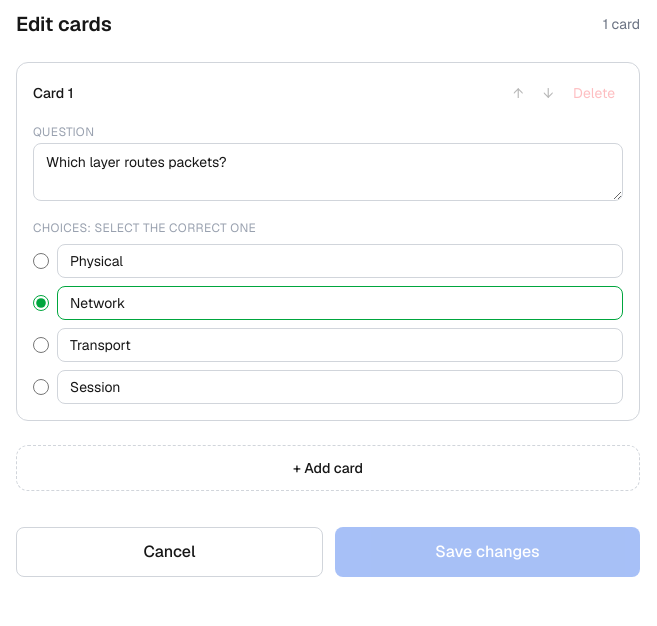
Test: CardEditor: multiple choice › rejects two identical choices
Replace the text in the field named "Card 1: choice 3" with "network." at point(340, 345), box 57,328 -> 623,362
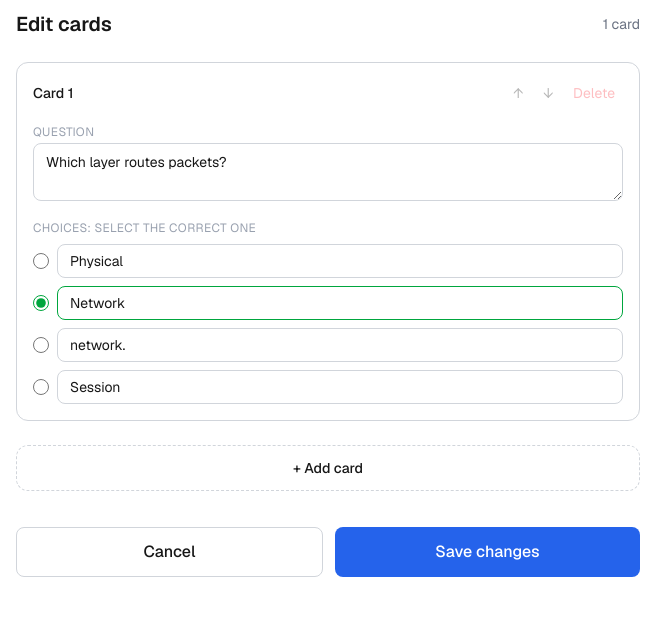
Click the button "Save changes".
click(488, 552)  # box 335,527 -> 640,577
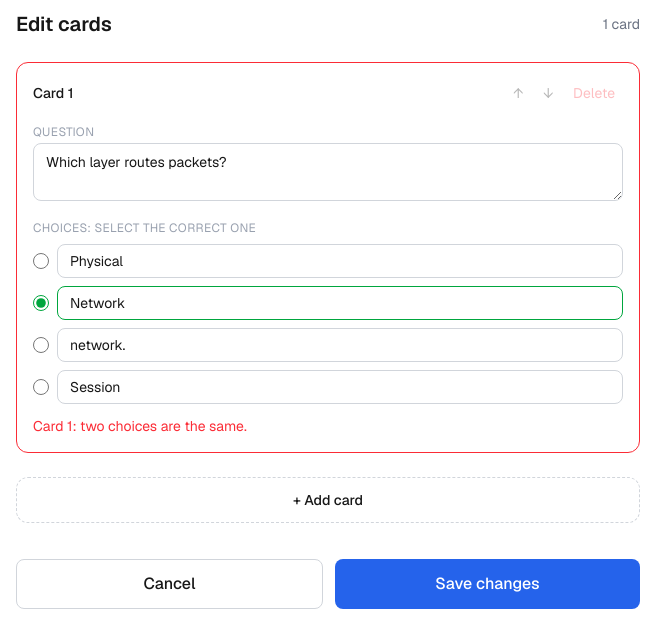
Check: the message reads "Card 1: two choices are the same.", box 33,417 -> 247,435
